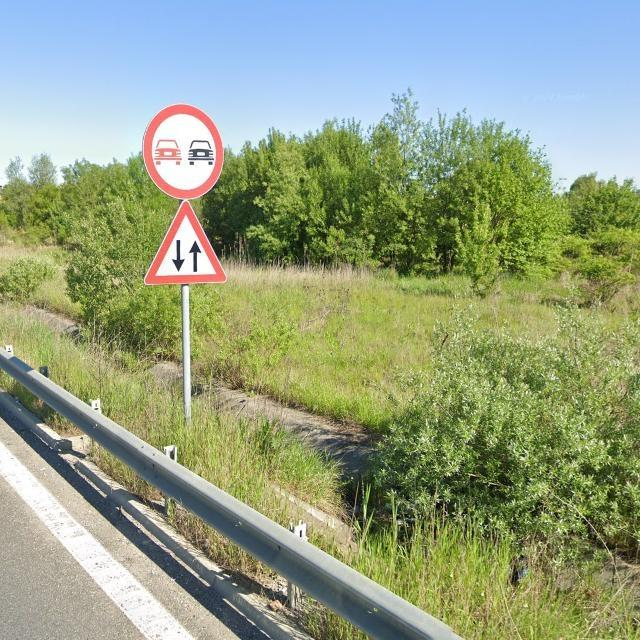forb_overtake: (143, 104, 225, 200)
